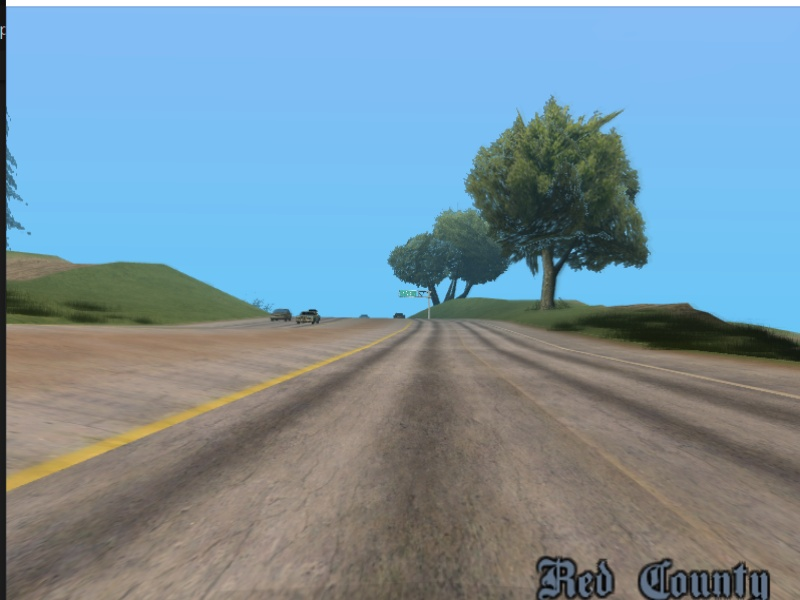pole: (424, 289, 434, 318)
vehicle: (295, 309, 320, 328), (270, 307, 290, 323)
